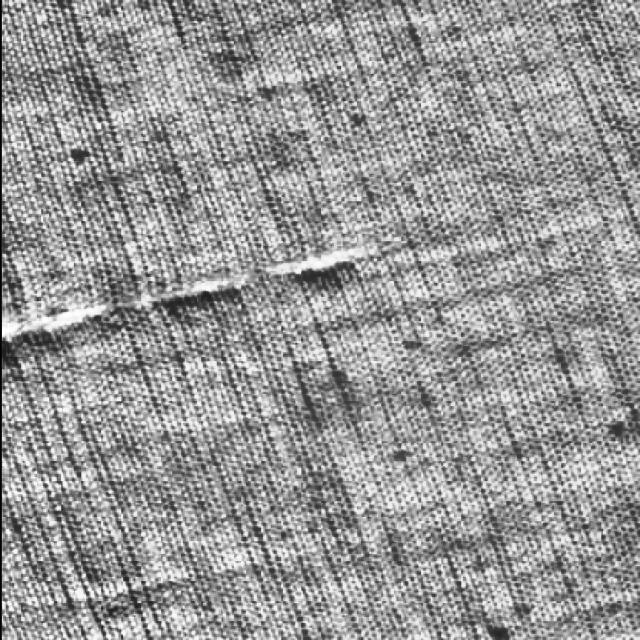thread_error: (0, 231, 382, 358)
